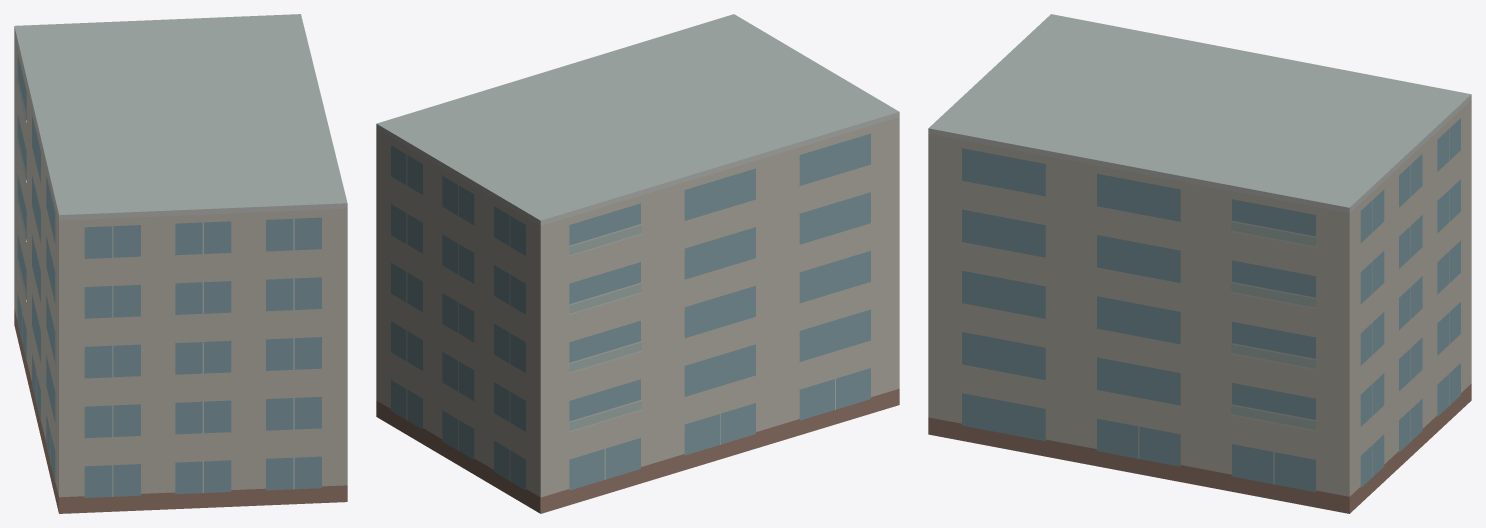
Rendered from survey-upis-32523692.glb.
3 views of the same model, side by side, from view 1: azimuth 30°, elevation 25°; view 2: azimuth 150°, elevation 25°; view 3: azimuth 270°, elevation 25° (orthographic). The views are drawn at different scales.
Visible parts, largest first — view 1: survey-upis-32523692.tmp; view 2: survey-upis-32523692.tmp; view 3: survey-upis-32523692.tmp.
Part boxes in pixels (box(x1,y1,x2,y2)): survey-upis-32523692.tmp: box(14, 14, 347, 513); survey-upis-32523692.tmp: box(376, 14, 899, 513); survey-upis-32523692.tmp: box(928, 14, 1471, 513).
Bounding box in the file's own units: 18.61 × 13.7 × 22.04.
